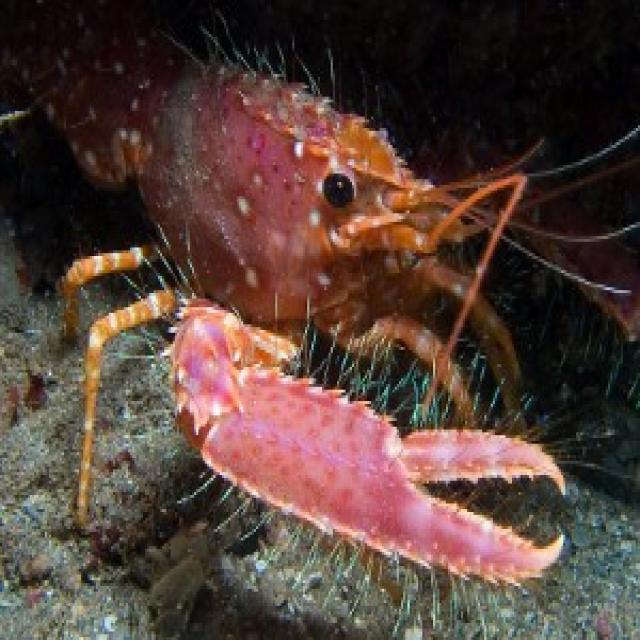lobsters: (44, 31, 640, 599)
